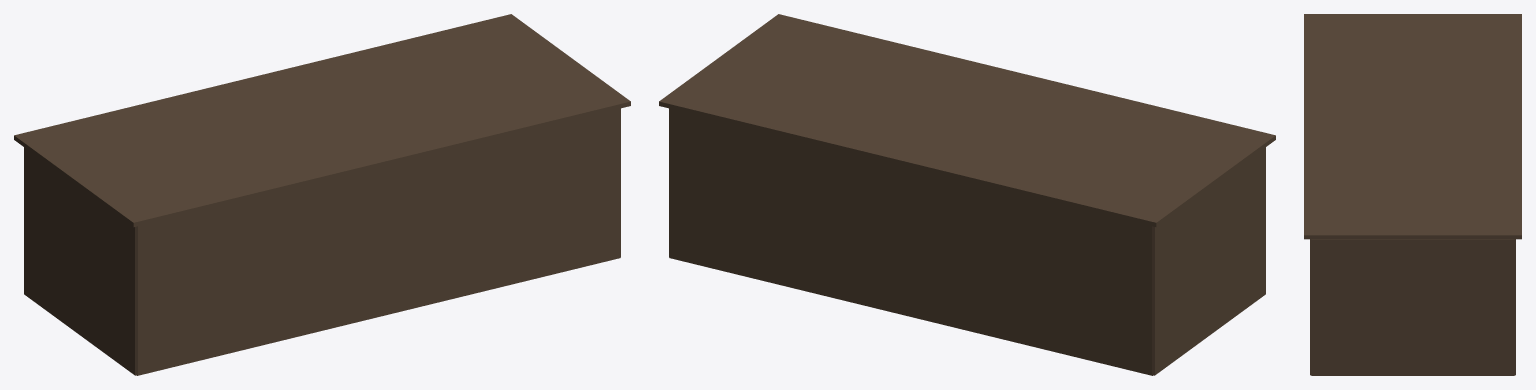
The model's file is lab_wood_liner.glb.
3 renders of one model, left to right at view 1: azimuth 30°, elevation 25°; view 2: azimuth 150°, elevation 25°; view 3: azimuth 270°, elevation 25°, orthographic. The views are drawn at different scales.
Visible parts, largest first — view 1: liner_south, liner_ceiling, liner_west; view 2: liner_north, liner_ceiling, liner_west; view 3: liner_ceiling, liner_east, liner_north, liner_south.
Part boxes in pixels (x1=…): liner_south: x1=136, y1=108, x2=620, y2=375; liner_ceiling: x1=14, y1=14, x2=630, y2=227; liner_west: x1=24, y1=147, x2=136, y2=375; liner_north: x1=669, y1=108, x2=1153, y2=375; liner_ceiling: x1=659, y1=14, x2=1275, y2=227; liner_west: x1=1153, y1=147, x2=1265, y2=375; liner_ceiling: x1=1304, y1=14, x2=1521, y2=239; liner_east: x1=1311, y1=239, x2=1514, y2=375; liner_north: x1=1514, y1=239, x2=1515, y2=375; liner_south: x1=1310, y1=239, x2=1311, y2=375.
Size of the model in its own units: 11.65 by 3.52 by 4.85.
